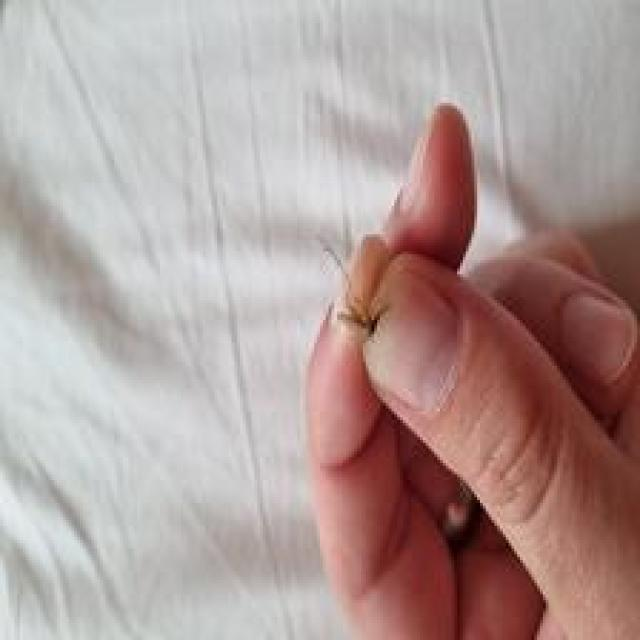Culex: (316, 235, 384, 338)
